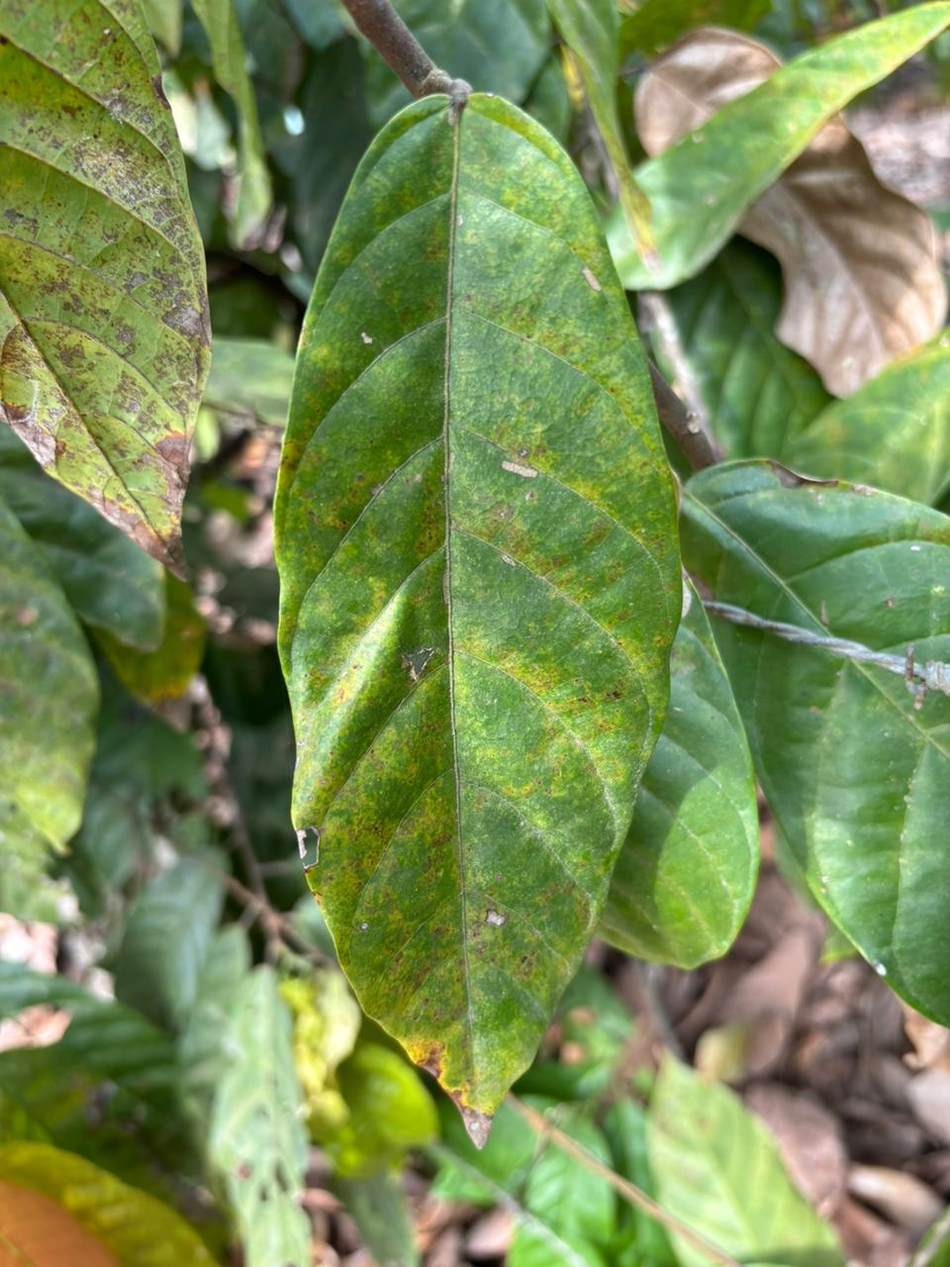deficienciia_fosforo: (274, 93, 680, 1144)
